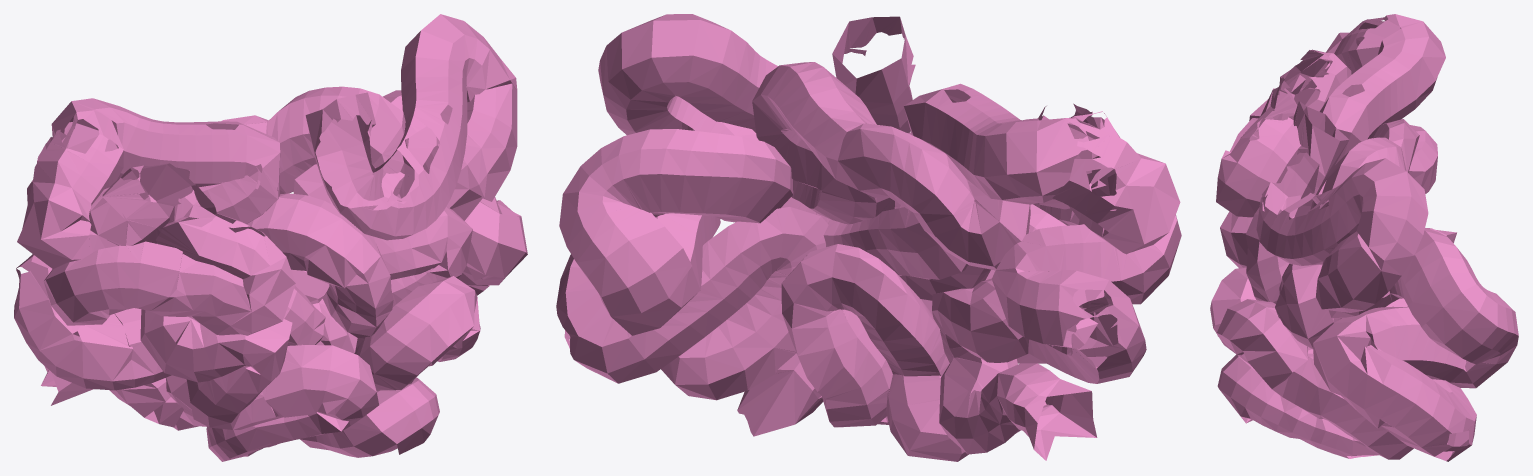
The model's file is small int.gltf.
3 renders of one model, left to right at view 1: azimuth 30°, elevation 25°; view 2: azimuth 150°, elevation 25°; view 3: azimuth 270°, elevation 25°, orthographic. The views are drawn at different scales.
Visible parts, largest first — view 1: node_id32.006; view 2: node_id32.006; view 3: node_id32.006.
Part boxes in pixels (x1,y1,x2,y2): node_id32.006: [14, 14, 527, 461]; node_id32.006: [556, 14, 1181, 461]; node_id32.006: [1210, 14, 1518, 461].
Size of the model in its own units: 2.06 by 1.39 by 1.2.
